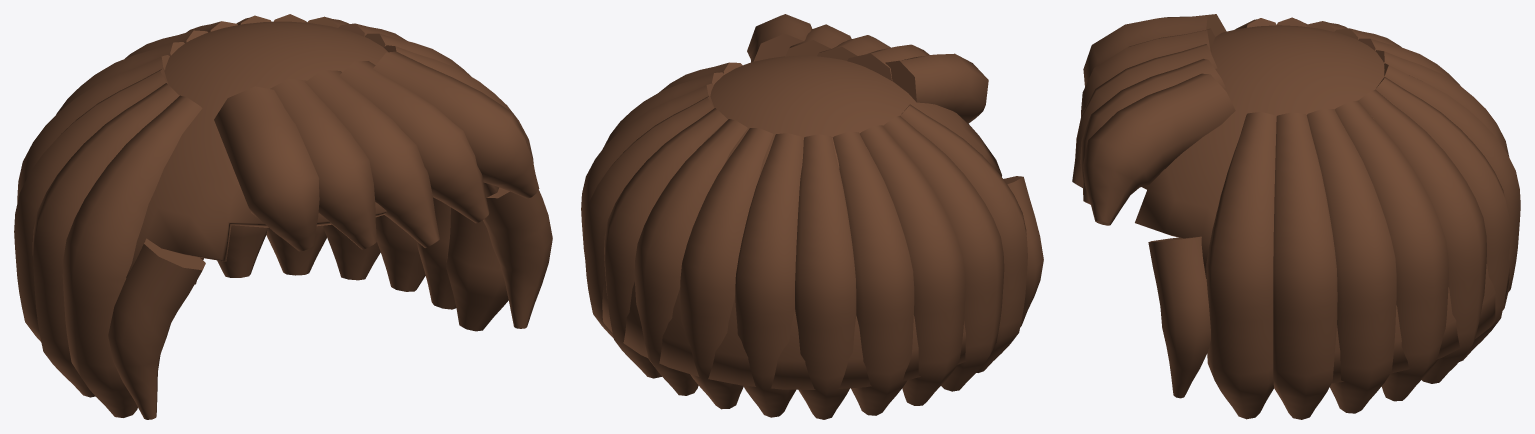
Rendered from hair_pixie.glb.
3 views of the same model, side by side, from view 1: azimuth 30°, elevation 25°; view 2: azimuth 150°, elevation 25°; view 3: azimuth 270°, elevation 25° (orthographic). The views are drawn at different scales.
Parts seen in each view (by area): view 1: lock; view 2: lock; view 3: lock.
Boxes of the visible parts, x1,y1,x2,y2 form: lock: [14, 14, 552, 419]; lock: [581, 14, 1043, 419]; lock: [1072, 14, 1520, 419].
Bounding box in the file's own units: 2.47 × 1.61 × 2.23.
